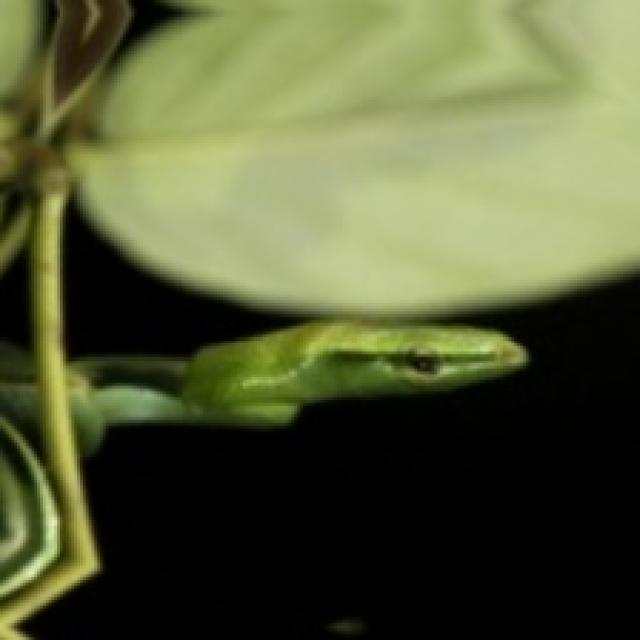red-tailed green ratsnake: (70, 320, 529, 452)
